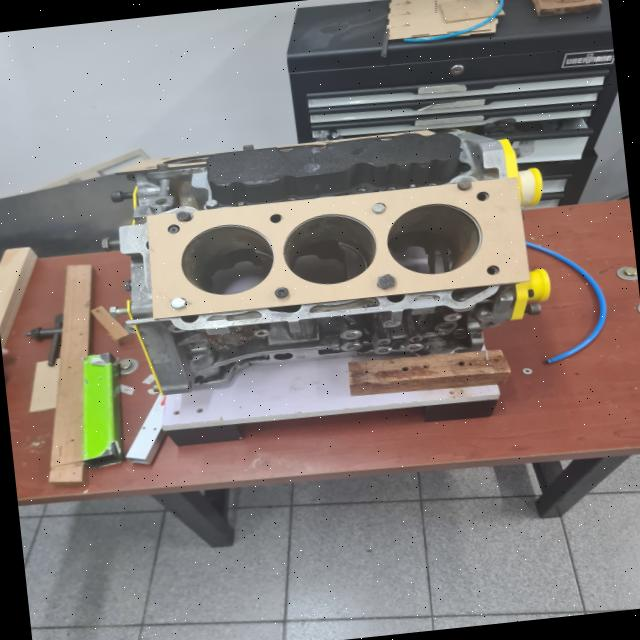tor_v1: (144, 178, 527, 318)
